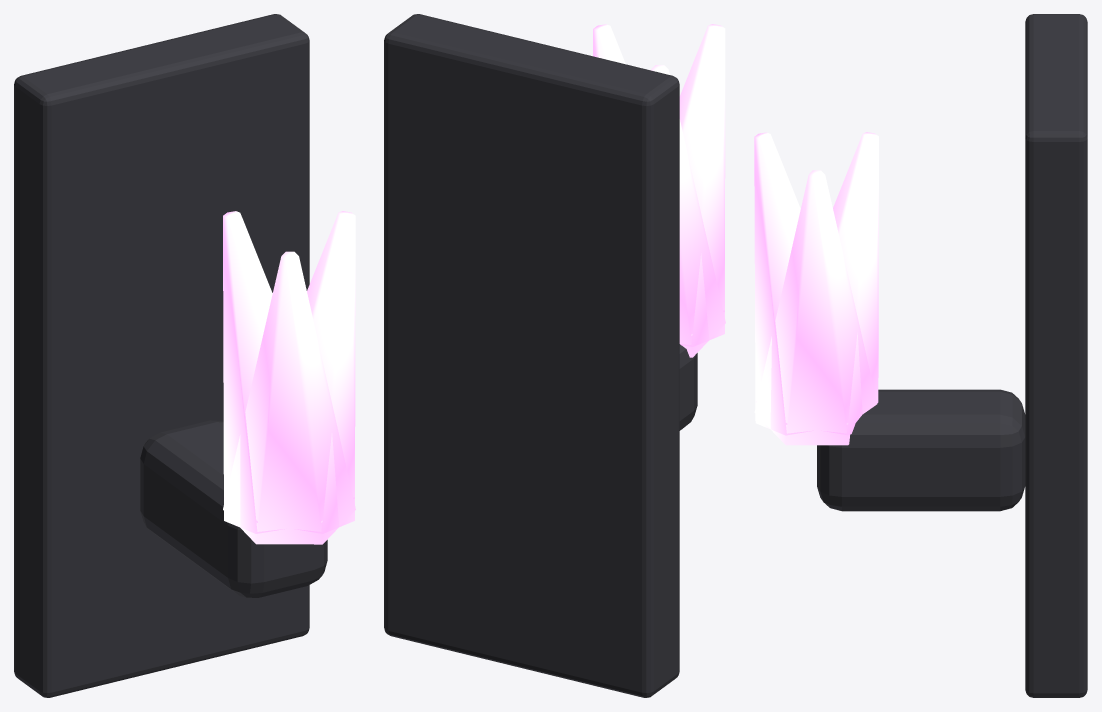
File: sconce_crystal_sconce.glb
3 renders of one model, left to right at view 1: azimuth 30°, elevation 25°; view 2: azimuth 150°, elevation 25°; view 3: azimuth 270°, elevation 25°, orthographic. The views are drawn at different scales.
Visible parts, largest first — view 1: GD_sconce_crystal_sconce__m0, GD_sconce_crystal_sconce__m1; view 2: GD_sconce_crystal_sconce__m0, GD_sconce_crystal_sconce__m1; view 3: GD_sconce_crystal_sconce__m0, GD_sconce_crystal_sconce__m1.
Part boxes in pixels (box(x1,y1,x2,y2)): GD_sconce_crystal_sconce__m0: box(14, 14, 327, 697); GD_sconce_crystal_sconce__m1: box(223, 211, 355, 544); GD_sconce_crystal_sconce__m0: box(384, 14, 697, 697); GD_sconce_crystal_sconce__m1: box(593, 24, 725, 357); GD_sconce_crystal_sconce__m0: box(817, 14, 1087, 697); GD_sconce_crystal_sconce__m1: box(754, 132, 878, 445).
Size of the model in its own units: 0.14 by 0.3 by 0.1601.
